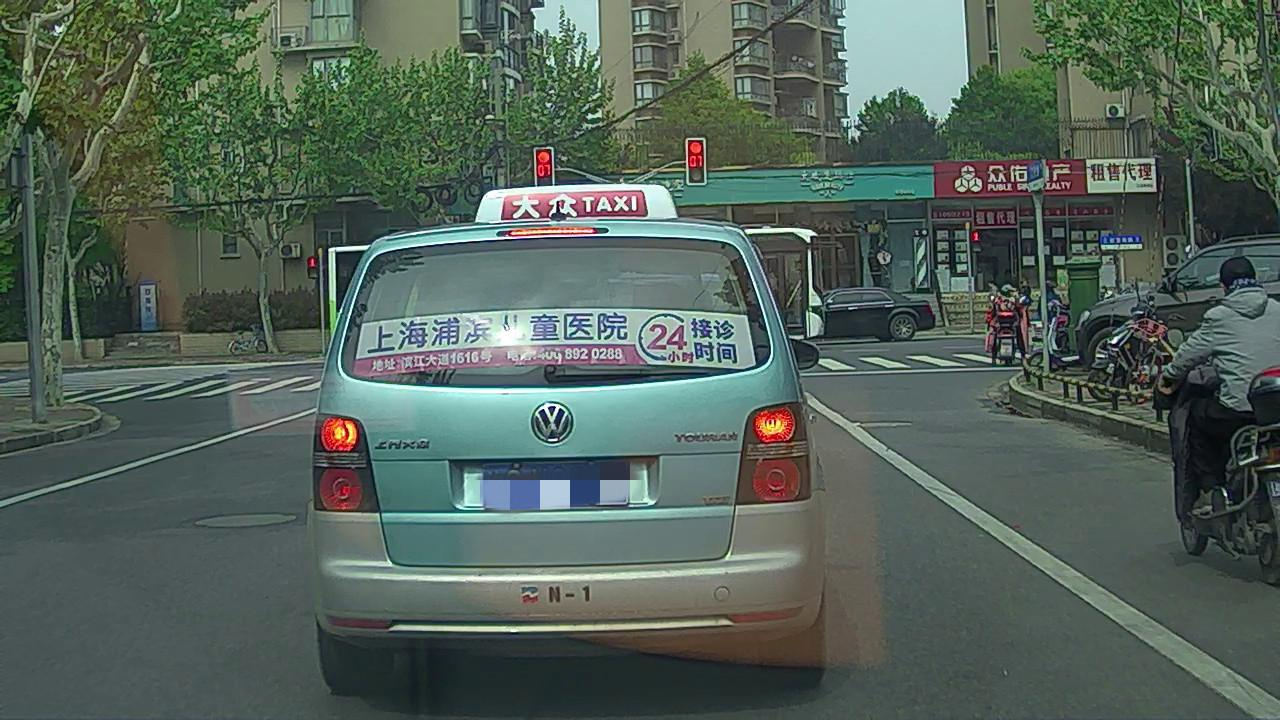traffic_light: (686, 140, 706, 184), (534, 150, 553, 186)
